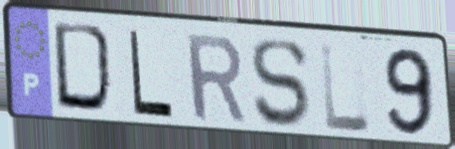9: (382, 45, 437, 139)
D: (50, 20, 120, 119)
L: (317, 40, 374, 135), (126, 27, 176, 121)
R: (182, 32, 249, 126)
S: (248, 37, 311, 131)
